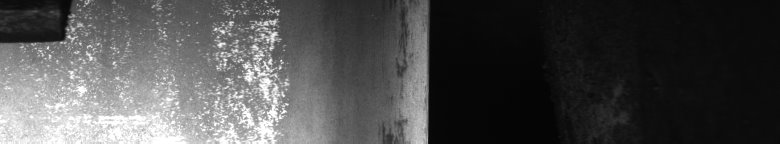kb: (4, 4, 289, 122)
